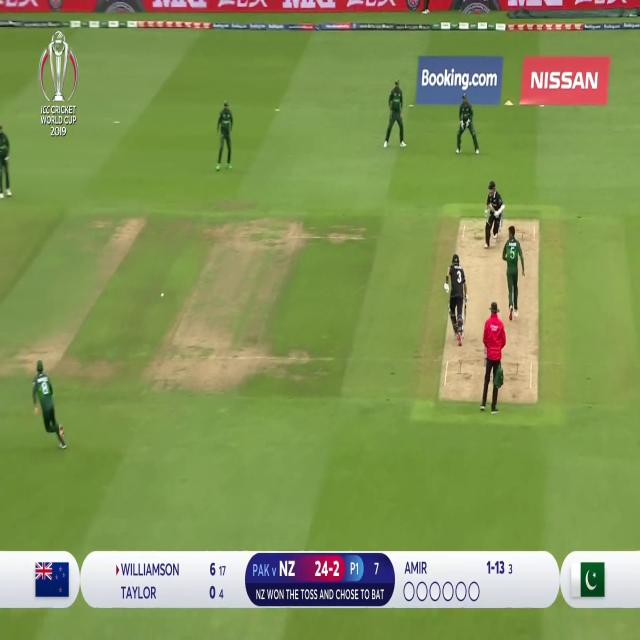bat: (484, 202, 496, 213), (463, 302, 467, 326)
